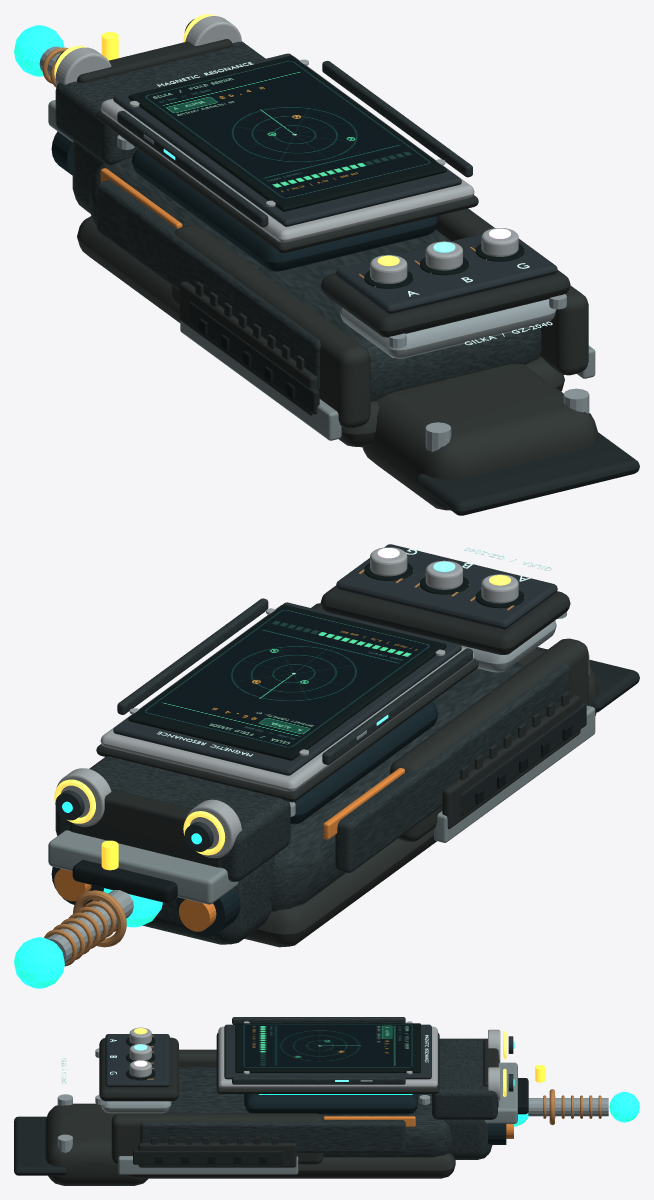
Rendered from gilka-v111-draco.glb.
3 views of the same model, one above another, from view 1: azimuth 30°, elevation 25°; view 2: azimuth 150°, elevation 25°; view 3: azimuth 270°, elevation 25° (orthographic). The views are drawn at different scales.
Parts seen in each view (by area): view 1: GZ110_ORIGINAL_V37_CORE_RETAINED, GZ110_MFD_SCREEN, GZ110_Side_Alloy_Reinforcement, GZ111_Heel_ProtectiveGasket, GZ110_Head_Reinforced_Base, GZ110_PalmSwitch_Cutout_Metal, GZ110_PalmSwitch_RubberPad, GZ110_CNC_Inner_GraphiteRim, GZ110_CNC_Display_Titanium_Rim, GZ110_CNC_MFD_Outer_Gasket, GZ110_CNC_Sealed_Display_Gasket, GZ110_Side_Elastic_Bumper (+10 smaller); view 2: GZ110_ORIGINAL_V37_CORE_RETAINED, GZ110_MFD_SCREEN, GZ110_Side_Alloy_Reinforcement, GZ110_Head_Reinforced_Base, GZ110_PalmSwitch_Cutout_Metal, GZ110_PalmSwitch_RubberPad, GZ110_CNC_Inner_GraphiteRim, GZ111_Emitter_BottomArmature, GZ110_Head_Insulating_Bridge, GZ110_CNC_Display_Titanium_Rim, GZ110_CNC_MFD_Outer_Gasket, GZ110_CNC_Sealed_Display_Gasket (+13 smaller); view 3: GZ110_ORIGINAL_V37_CORE_RETAINED, GZ110_MFD_SCREEN, GZ110_Side_Alloy_Reinforcement.001, GZ110_Head_Reinforced_Base, GZ110_PalmSwitch_Cutout_Metal, GZ111_Heel_ProtectiveGasket, GZ110_CNC_Inner_GraphiteRim, GZ110_Side_Elastic_Bumper.001, GZ110_CNC_Display_Titanium_Rim, GZ110_PalmSwitch_RubberPad, GZ111_Bumper_RecessedRubber.001, GZ111_Bumper_MetalSpine.001 (+12 smaller).
Boxes of the visible parts, x1,y1,x2,y2 form: GZ110_ORIGINAL_V37_CORE_RETAINED: (14,25,598,510); GZ110_MFD_SCREEN: (139,58,435,200); GZ110_Side_Alloy_Reinforcement: (97,180,320,390); GZ111_Heel_ProtectiveGasket: (416,432,639,515); GZ110_Head_Reinforced_Base: (55,41,265,165); GZ110_PalmSwitch_Cutout_Metal: (336,233,557,313); GZ110_PalmSwitch_RubberPad: (321,270,570,337); GZ110_CNC_Inner_GraphiteRim: (113,53,461,226); GZ110_CNC_Display_Titanium_Rim: (100,56,474,242); GZ110_CNC_MFD_Outer_Gasket: (128,55,446,211); GZ110_CNC_Sealed_Display_Gasket: (96,110,478,253); GZ110_Side_Elastic_Bumper: (179,281,317,415); GZ110_ORIGINAL_V37_CORE_RETAINED: (14,603,598,988); GZ110_MFD_SCREEN: (139,607,435,749); GZ110_Side_Alloy_Reinforcement: (335,663,570,872); GZ110_Head_Reinforced_Base: (55,756,290,881); GZ110_PalmSwitch_Cutout_Metal: (336,544,557,629); GZ110_PalmSwitch_RubberPad: (321,585,570,654); GZ110_CNC_Inner_GraphiteRim: (113,602,461,775); GZ111_Emitter_BottomArmature: (48,830,238,904); GZ110_Head_Insulating_Bridge: (70,789,220,867); GZ110_CNC_Display_Titanium_Rim: (100,605,474,791); GZ110_CNC_MFD_Outer_Gasket: (128,604,446,760); GZ110_CNC_Sealed_Display_Gasket: (96,659,478,802); GZ110_ORIGINAL_V37_CORE_RETAINED: (45,1048,639,1185); GZ110_MFD_SCREEN: (242,1023,414,1068); GZ110_Side_Alloy_Reinforcement.001: (140,1119,405,1152); GZ110_Head_Reinforced_Base: (432,1038,497,1119); GZ110_PalmSwitch_Cutout_Metal: (105,1034,169,1087); GZ111_Heel_ProtectiveGasket: (14,1116,67,1175); GZ110_CNC_Inner_GraphiteRim: (224,1024,431,1079); GZ110_Side_Elastic_Bumper.001: (138,1143,296,1167); GZ110_CNC_Display_Titanium_Rim: (218,1026,437,1088); GZ110_PalmSwitch_RubberPad: (99,1037,178,1101); GZ111_Bumper_RecessedRubber.001: (133,1150,283,1164); GZ111_Bumper_MetalSpine.001: (118,1156,298,1174).
Size of the model in its own units: 0.1255 by 0.0871 by 0.4075.
Materials: 23 (3 with a texture image).
